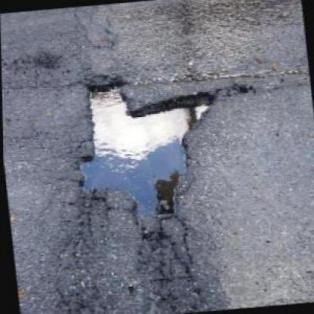Hueco: (64, 64, 228, 232)
